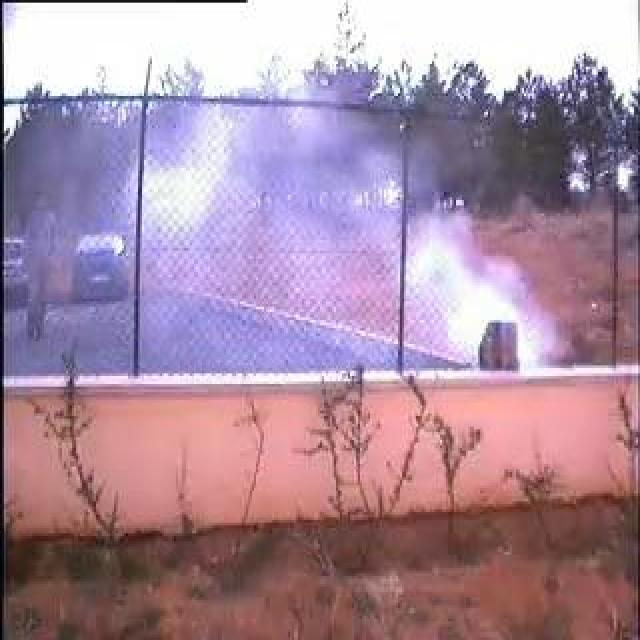Smoke: (126, 102, 540, 366)
